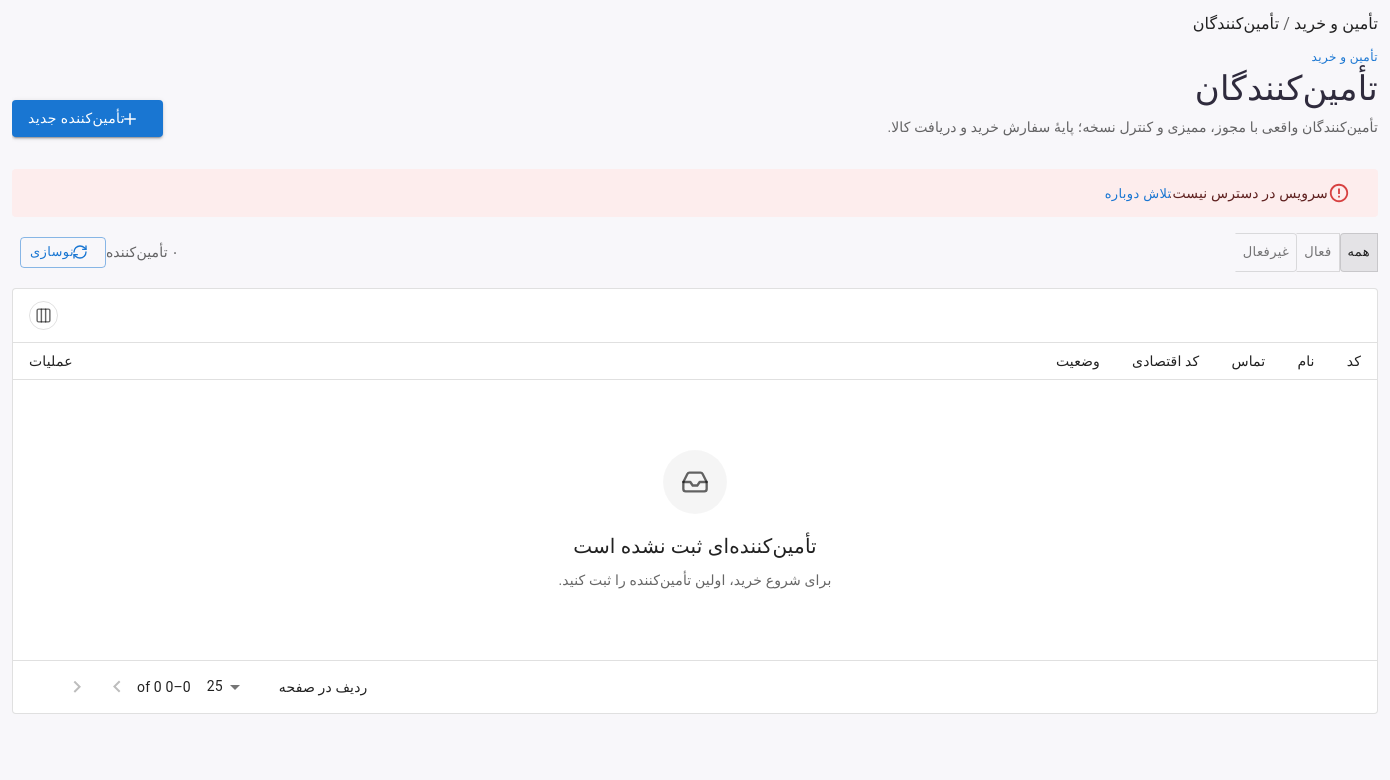
SuppliersView › surfaces a list failure with a retry that refetches
Expected: the text "سرویس در دسترس نیست." is shown, 1169,185 -> 1328,201
Click the button "تلاش دوباره": (1138, 194) 1100,179 -> 1176,210
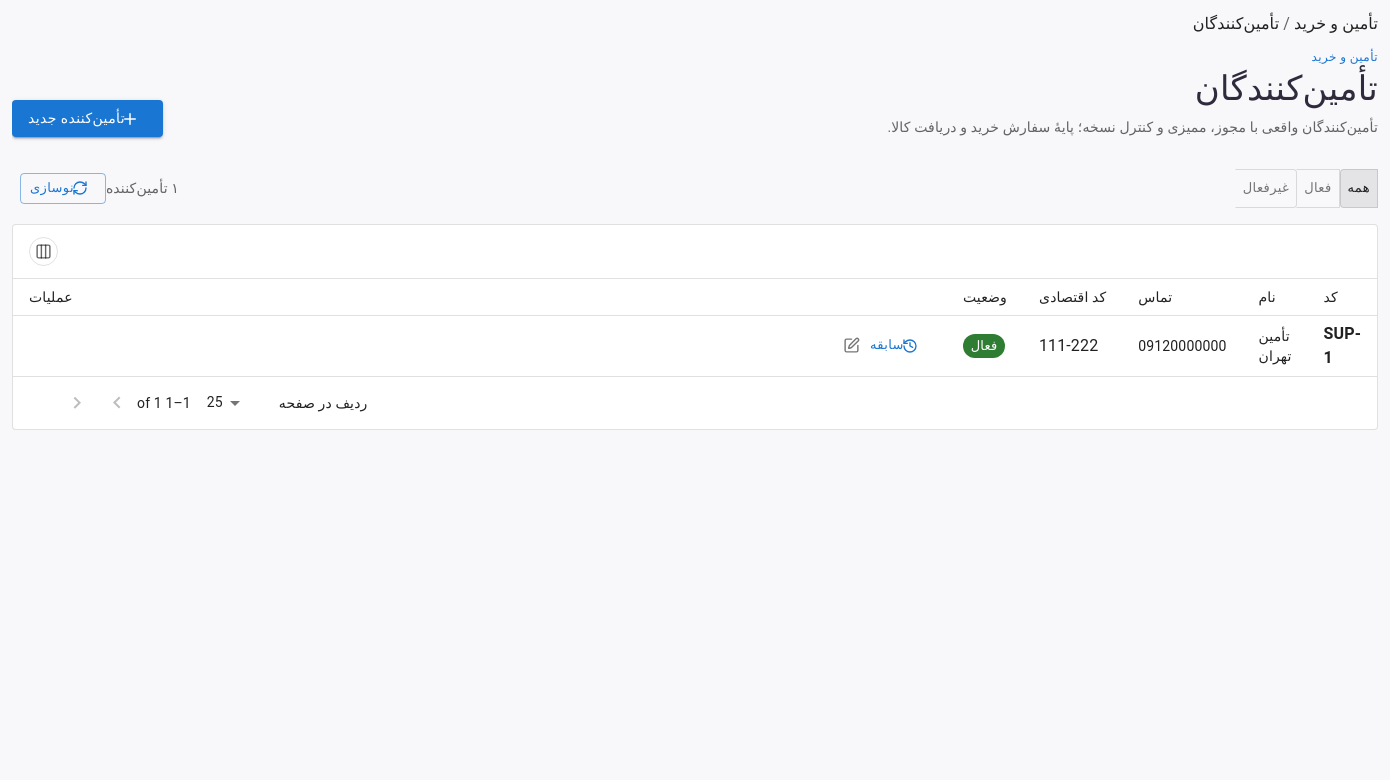
Result: the text "تأمین تهران" is shown at 1242,316 -> 1308,377
